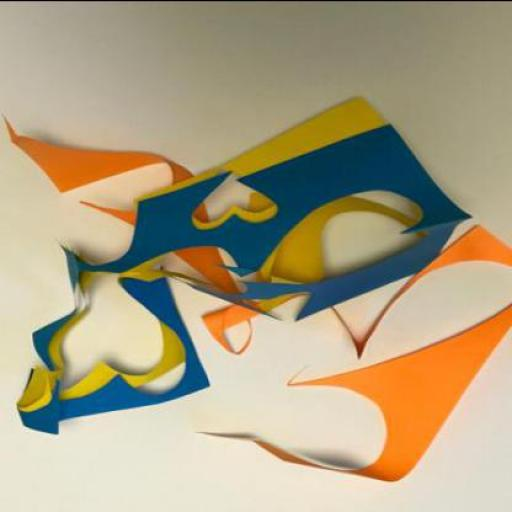paper: (1, 112, 511, 481), (18, 123, 476, 435), (17, 95, 446, 412)
